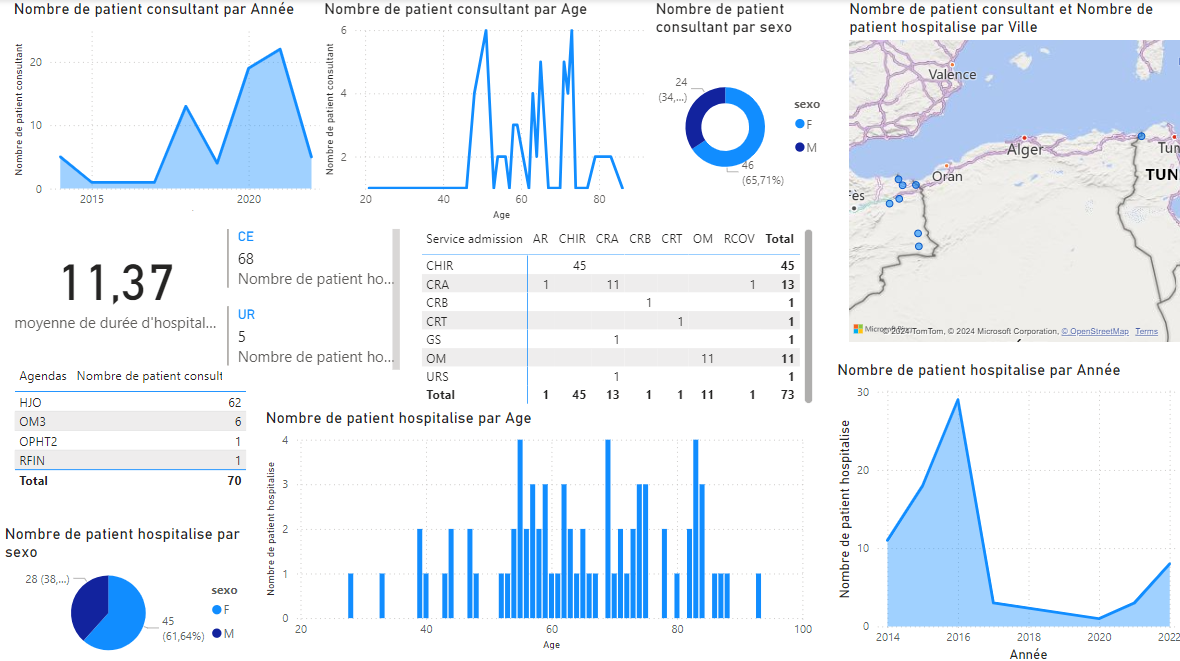

What the dashboard file says about the page in this screenshot:
{"tool":"powerbi","page":{"name":"Dashboard2","canvas":[1280,720],"ordinal":2},"visuals":[{"type":"areaChart","fields":{"Y":["CONSULTATION.Nombre de patient consultant"],"Category":["CONSULTATION.Date de la demande de rendez-vous.Variation.Hiérarchie de dates.Année"]},"box":[10.1,0,344.2,243.4],"z":0},{"type":"areaChart","fields":{"Category":["HOSPITALISATION.Date entrée.Variation.Hiérarchie de dates.Année"],"Y":["HOSPITALISATION.Nombre de patient hospitalise"]},"box":[898.6,390.2,381.6,329.8],"z":1000},{"type":"tableEx","fields":{"Values":["CONSULTATION.Agendas","CONSULTATION.Nombre de patient consultant"]},"box":[10.1,390.2,272.2,152.6],"z":2000},{"type":"map","fields":{"Category":["CONSULTATION.Ville"]},"box":[911.5,0,368.6,375.8],"z":3000},{"type":"pieChart","fields":{"Y":["HOSPITALISATION.Nombre de patient hospitalise"],"Category":["HOSPITALISATION.sexo"]},"box":[0,567.4,282.2,152.6],"z":4000},{"type":"donutChart","fields":{"Y":["CONSULTATION.Nombre de patient consultant"],"Category":["CONSULTATION.sexo"]},"box":[702.9,0,208.6,237.1],"z":5000},{"type":"clusteredColumnChart","fields":{"Y":["HOSPITALISATION.Nombre de patient hospitalise"],"Category":["HOSPITALISATION.Age"]},"box":[282.2,442.1,600.5,265],"z":6000},{"type":"lineChart","fields":{"Y":["CONSULTATION.Nombre de patient consultant"],"Category":["CONSULTATION.Age"]},"box":[344.3,0,358.6,242.9],"z":7000},{"type":"pivotTable","fields":{"Rows":["HOSPITALISATION.Service admission"],"Columns":["HOSPITALISATION.Service Sortie"],"Values":["HOSPITALISATION.Nombre de patient hospitalise"]},"box":[450.7,243.4,432,198.7],"z":8000},{"type":"multiRowCard","fields":{"Values":["HOSPITALISATION.Origine hospitalisation","HOSPITALISATION.Nombre de patient hospitalise"]},"box":[239,243.4,197.3,174.2],"z":9000},{"type":"card","fields":{"Values":["HOSPITALISATION.moyenne de durée d'hospitalisation"]},"box":[10.1,227.5,229,162.7],"z":10000}]}

Visuals, with their boxes in screenshot pixels (x1, y1, x2, y2), scaled from the page's 1280x720 canvas onto the 1180x661 screenshot:
areaChart - CONSULTATION.Nombre de patient consultant x CONSULTATION.Date de la demande de rendez-vous.Variation.Hiérarchie de dates.Année: {"x1": 9, "y1": 0, "x2": 327, "y2": 223}
areaChart - HOSPITALISATION.Date entrée.Variation.Hiérarchie de dates.Année x HOSPITALISATION.Nombre de patient hospitalise: {"x1": 828, "y1": 358, "x2": 1179, "y2": 660}
tableEx - CONSULTATION.Agendas x CONSULTATION.Nombre de patient consultant: {"x1": 9, "y1": 358, "x2": 260, "y2": 498}
map - CONSULTATION.Ville: {"x1": 840, "y1": 0, "x2": 1179, "y2": 345}
pieChart - HOSPITALISATION.Nombre de patient hospitalise x HOSPITALISATION.sexo: {"x1": 0, "y1": 521, "x2": 260, "y2": 660}
donutChart - CONSULTATION.Nombre de patient consultant x CONSULTATION.sexo: {"x1": 648, "y1": 0, "x2": 840, "y2": 218}
clusteredColumnChart - HOSPITALISATION.Nombre de patient hospitalise x HOSPITALISATION.Age: {"x1": 260, "y1": 406, "x2": 814, "y2": 649}
lineChart - CONSULTATION.Nombre de patient consultant x CONSULTATION.Age: {"x1": 317, "y1": 0, "x2": 648, "y2": 223}
pivotTable - HOSPITALISATION.Service admission x HOSPITALISATION.Service Sortie: {"x1": 415, "y1": 223, "x2": 814, "y2": 406}
multiRowCard - HOSPITALISATION.Origine hospitalisation x HOSPITALISATION.Nombre de patient hospitalise: {"x1": 220, "y1": 223, "x2": 402, "y2": 383}
card - HOSPITALISATION.moyenne de durée d'hospitalisation: {"x1": 9, "y1": 209, "x2": 220, "y2": 358}
